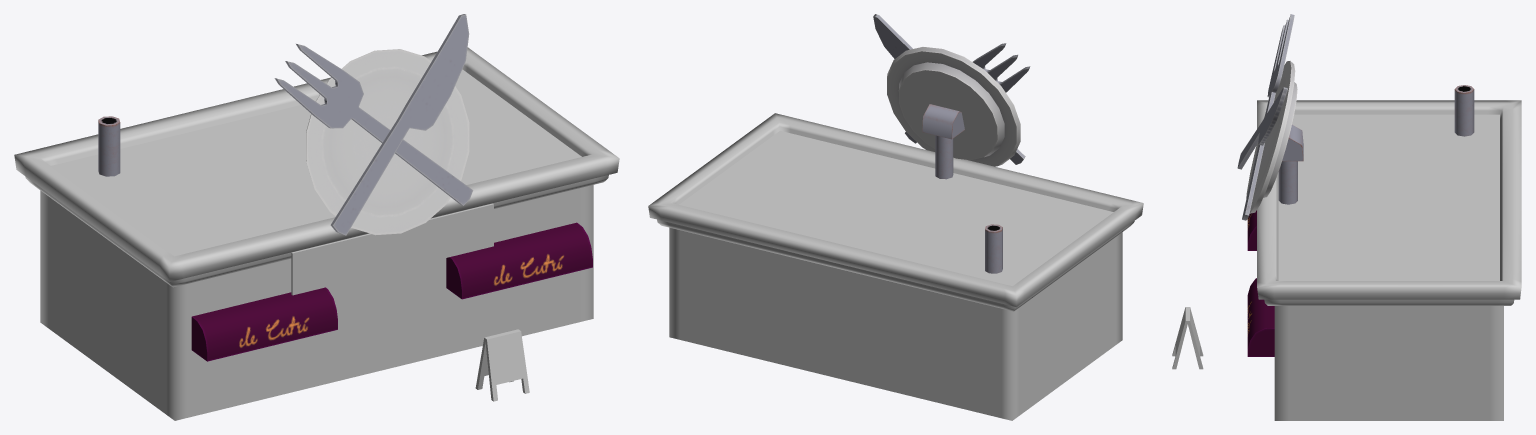
File: House_Cutri.fbx
3 views of the same model, side by side, from view 1: azimuth 30°, elevation 25°; view 2: azimuth 150°, elevation 25°; view 3: azimuth 270°, elevation 25° (orthographic). The views are drawn at different scales.
Parts seen in each view (by area): view 1: House_Cutri, Plate, Awning_2, Sign_2, Knife, Fork, Menu; view 2: House_Cutri, Plate, Fork, Knife; view 3: House_Cutri, Plate, Awning_2, Fork, Knife, Menu.
Part boxes in pixels (x1,y1,x2,y2): House_Cutri: (14,47,619,420); Plate: (306,49,469,235); Awning_2: (191,222,592,361); Sign_2: (291,203,493,295); Knife: (330,14,469,235); Fork: (274,44,473,205); Menu: (475,329,529,401); House_Cutri: (648,104,1143,420); Plate: (887,47,1020,166); Fork: (905,43,1030,143); Knife: (873,14,1025,164); House_Cutri: (1257,85,1521,420); Plate: (1246,61,1297,213); Awning_2: (1247,210,1274,356); Fork: (1242,14,1294,220); Knife: (1237,87,1287,169); Menu: (1172,307,1203,369).
Size of the model in its own units: 361 by 258 by 284.
